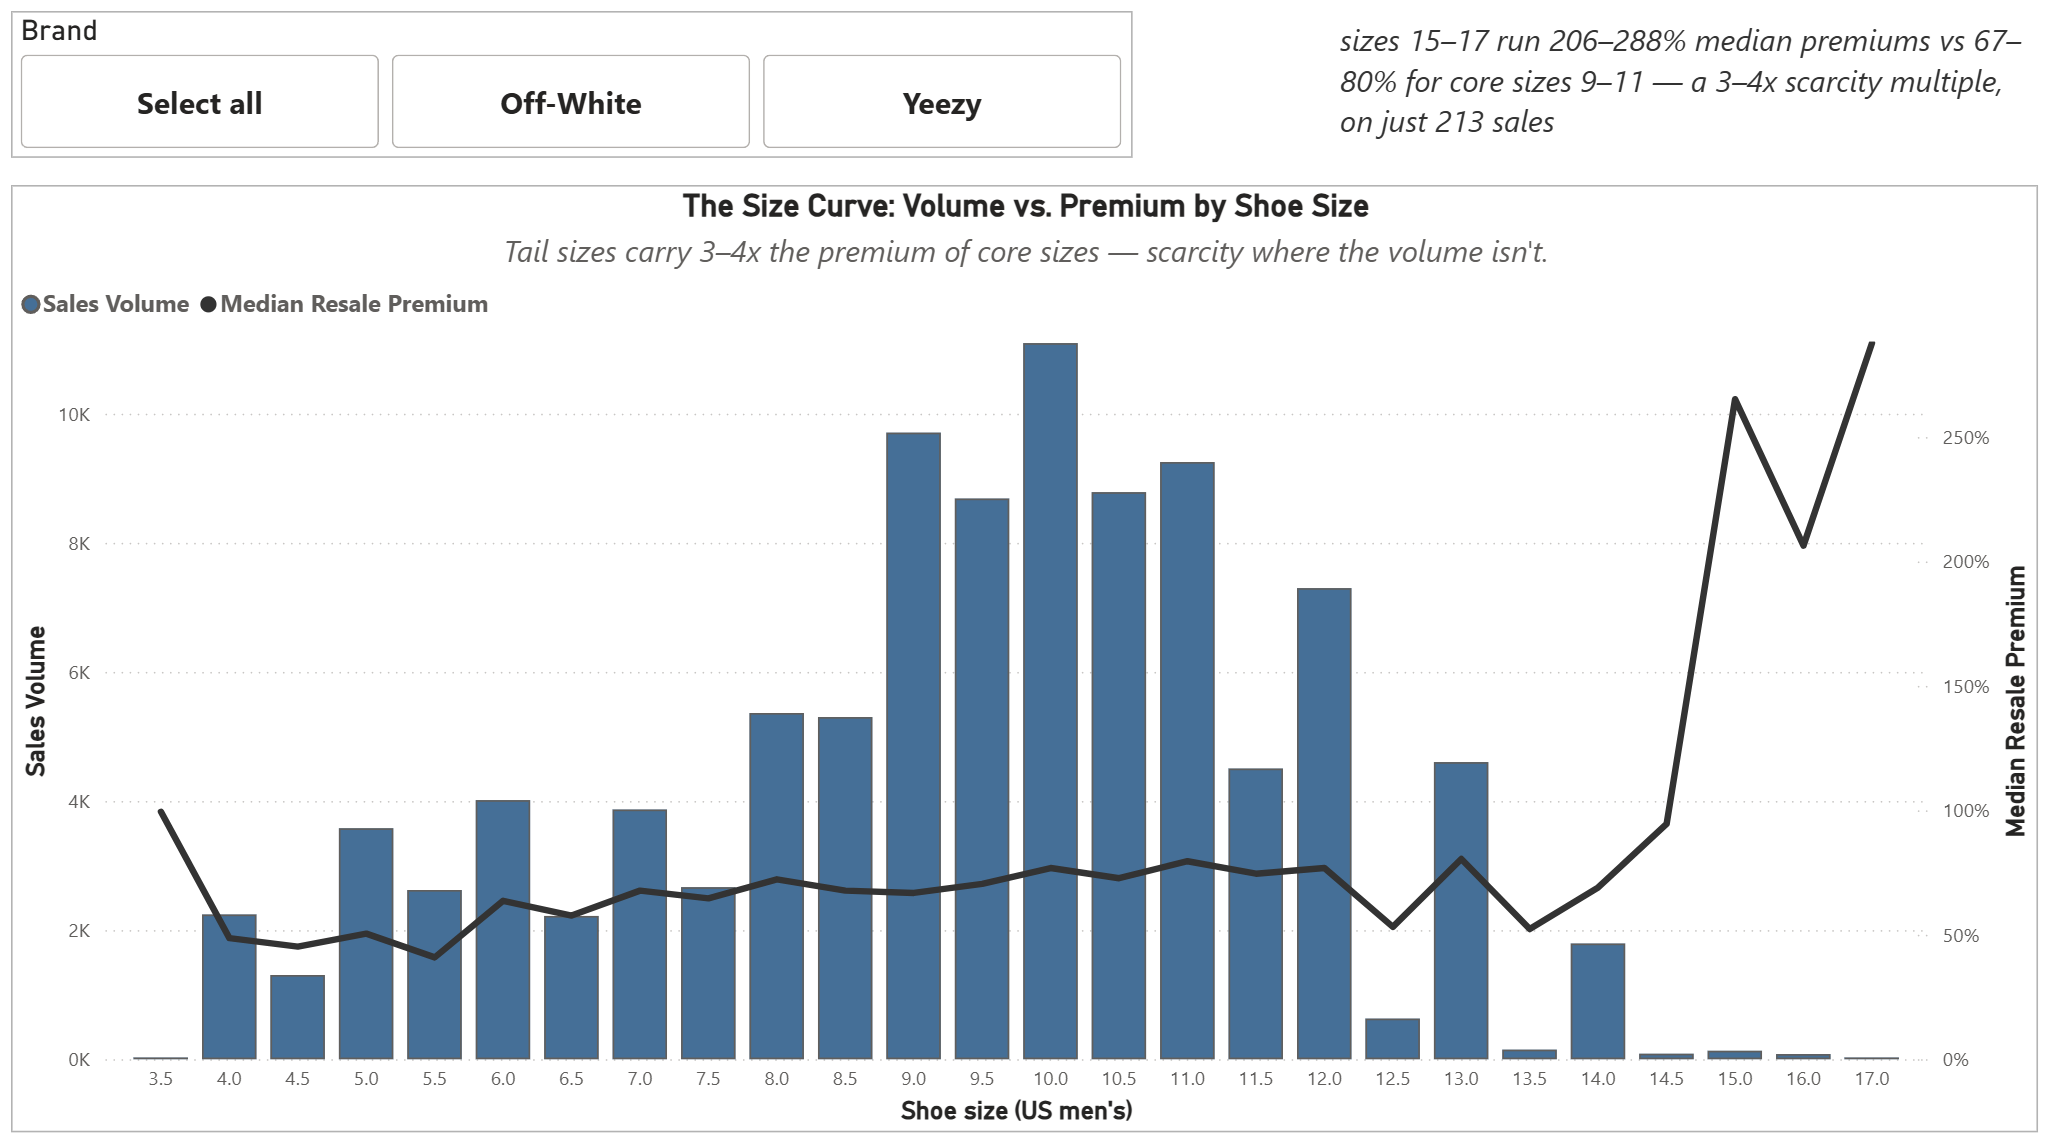

What the dashboard file says about the page in this screenshot:
{"tool":"powerbi","page":{"name":"Size Curve","canvas":[1280,720],"ordinal":2},"visuals":[{"type":"lineClusteredColumnComboChart","title":"The Size Curve: Volume vs. Premium by Shoe Size","fields":{"Category":["fact_sales.shoe_size"],"Y":["fact_sales.Sales Volume"],"Y2":["fact_sales.Median Resale Premium %"]},"box":[9.3,126,1256,587.3],"z":0},{"type":"advancedSlicerVisual","title":"Brand","fields":{"Values":["dim_sneaker.brand"]},"box":[9.3,18,694.7,91.3],"z":1000},{"type":"textbox","box":[828,18,437.3,91.3],"z":2000}]}

Visuals, with their boxes in screenshot pixels (x1, y1, x2, y2), scaled from the page's 1280x720 canvas onto the 2047x1137 screenshot:
"The Size Curve: Volume vs. Premium by Shoe Size" lineClusteredColumnComboChart: select_region(15, 199, 2023, 1126)
"Brand" advancedSlicerVisual: select_region(15, 28, 1126, 173)
textbox: select_region(1324, 28, 2023, 173)
